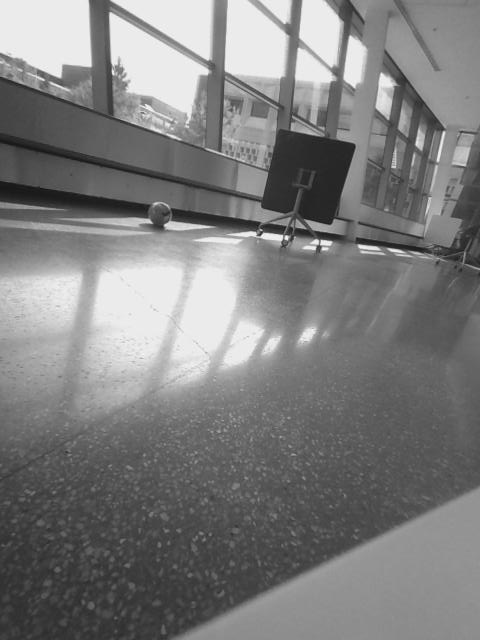ball: (145, 199, 173, 229)
